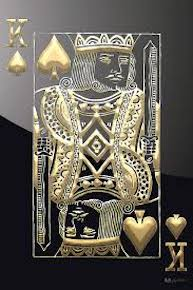KingOfSpades: (3, 13, 191, 278)
